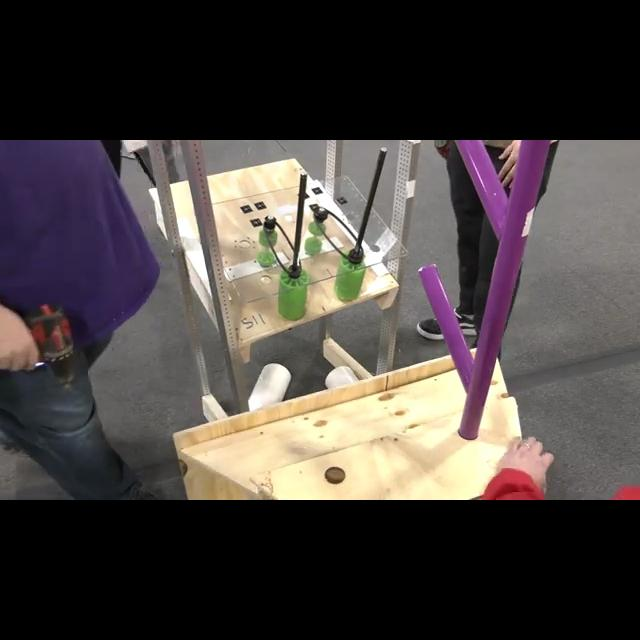CORAL: (246, 361, 290, 411), (325, 366, 357, 390)
